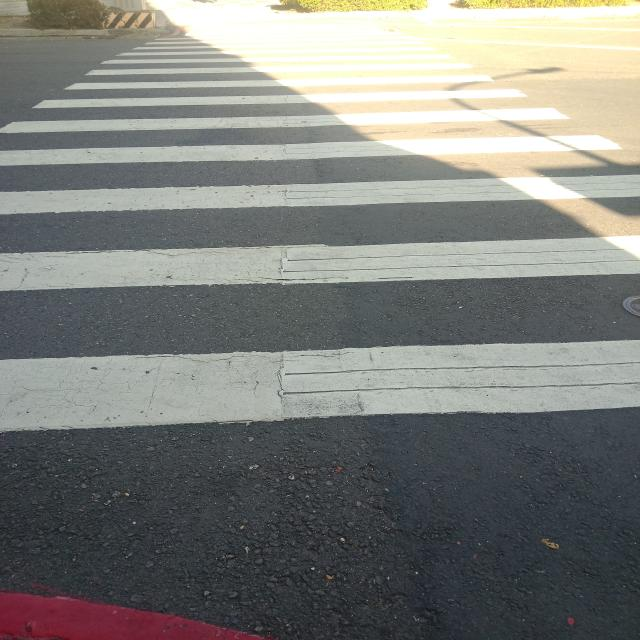zebra crossing: (0, 21, 640, 640)
